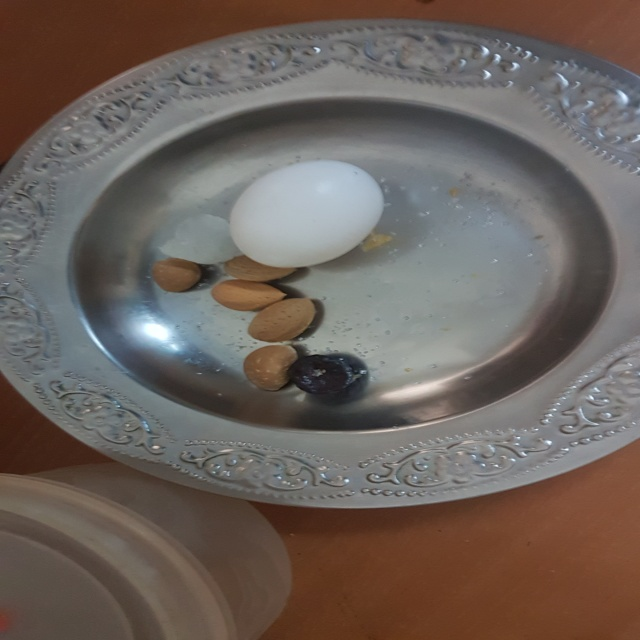eggs: (227, 154, 398, 269)
